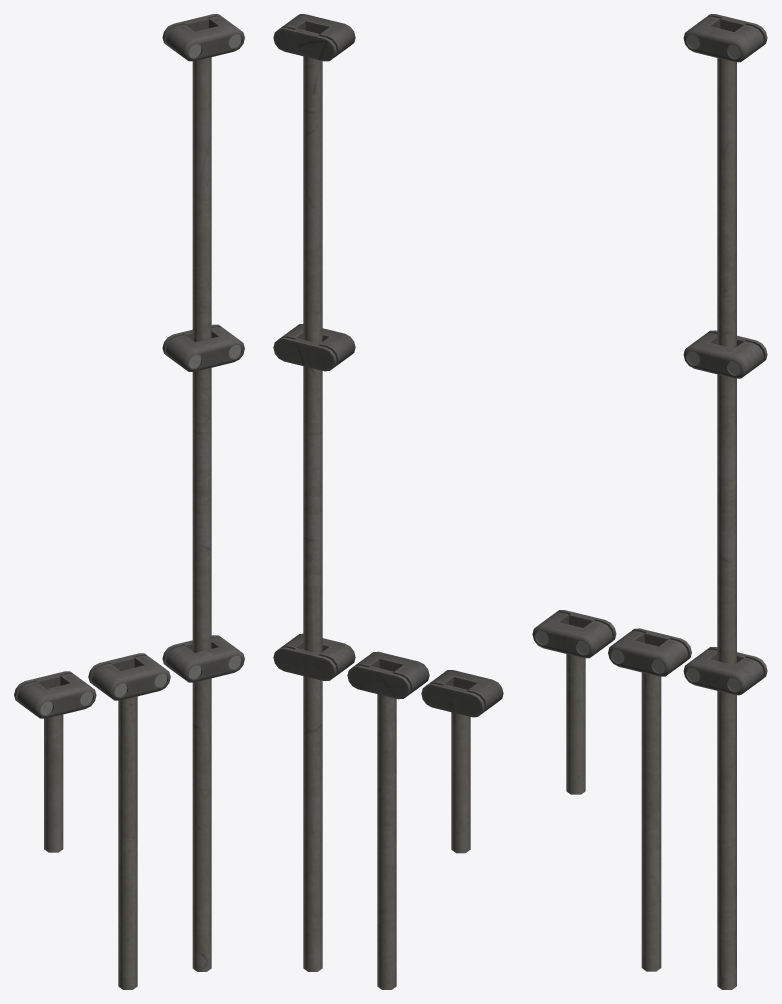
File: spare-conduit.glb
The picture shows the model from 3 angles, left to right: view 1: azimuth 30°, elevation 25°; view 2: azimuth 150°, elevation 25°; view 3: azimuth 330°, elevation 25°; orthographic projection. The views are drawn at different scales.
Parts seen in each view (by area): view 1: cable_straight_long, cable_straight_medium, cable_straight_short; view 2: cable_straight_long, cable_straight_medium, cable_straight_short; view 3: cable_straight_long, cable_straight_medium, cable_straight_short.
Boxes of the visible parts, box(x1,y1,x2,y2) form: cable_straight_long: box(162, 14, 244, 971); cable_straight_medium: box(88, 653, 170, 989); cable_straight_short: box(14, 671, 96, 852); cable_straight_long: box(273, 14, 355, 971); cable_straight_medium: box(347, 651, 429, 989); cable_straight_short: box(421, 670, 503, 853); cable_straight_long: box(683, 14, 767, 989); cable_straight_medium: box(608, 628, 691, 971); cable_straight_short: box(532, 610, 616, 794).
Bounding box in the file's own units: 0.1416 × 0.6073 × 0.026.
1 material, 1 textured.
